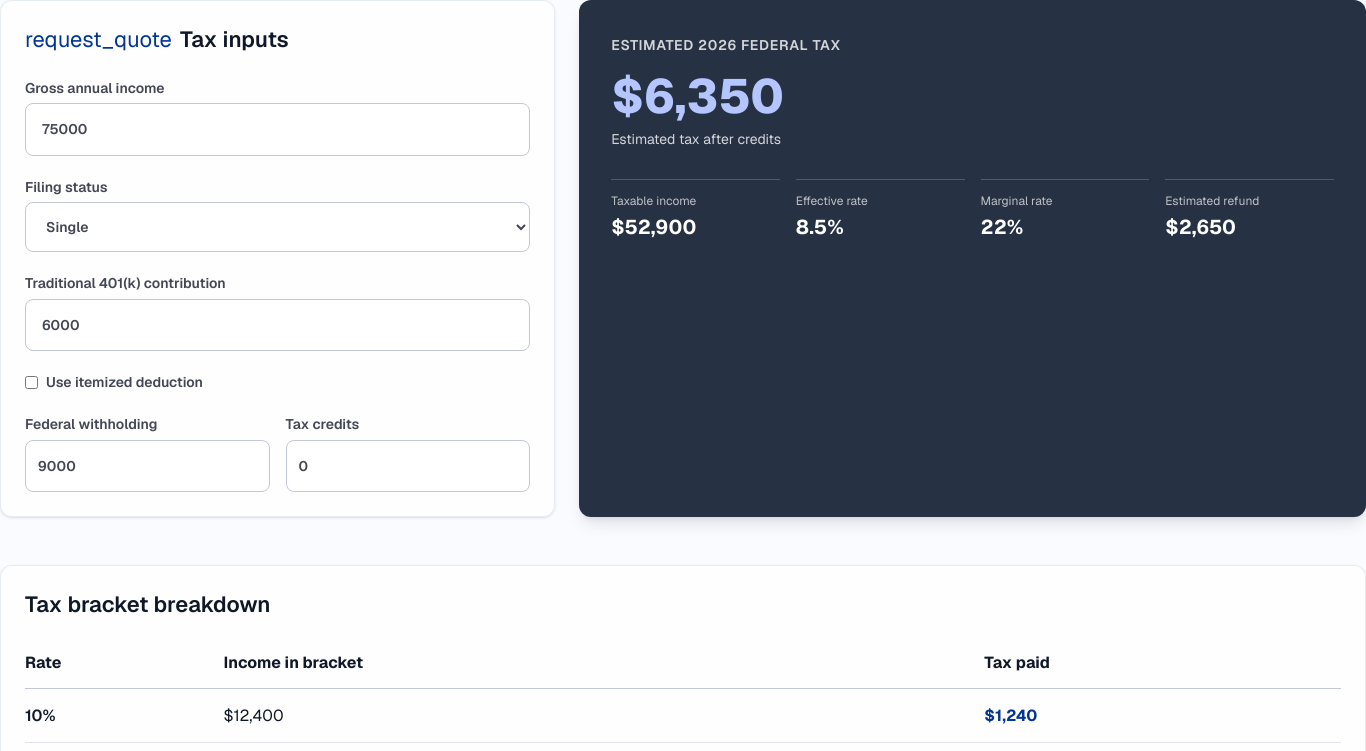
Test: version-sensitive tax workflow › shows the current year and responds to status/deduction thresholds
This screenshot has width=1366, height=751.
Expected: the text "Estimated 2026 federal tax" is shown, [611,36,841,54]
Expected: the text "$6,350" is shown, [611,65,784,127]
Select "Married filing jointly" in the dropdown labelled "Filing status". click: (278, 227)
box: [25,202,530,252]
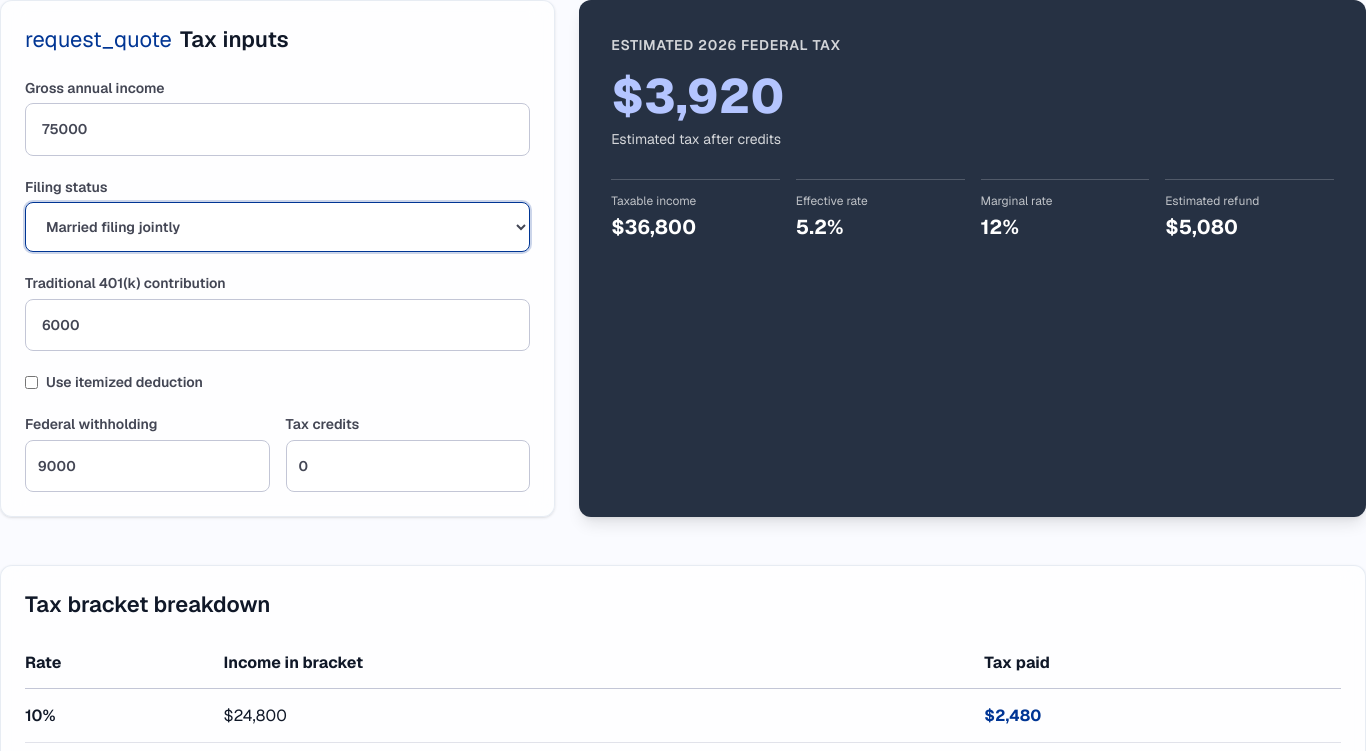
Now the text "$3,920" is shown, box [611,65,784,127]
Click the checkbox labelled "Use itemized deduction". click: (32, 382)
box: [25,376,38,389]
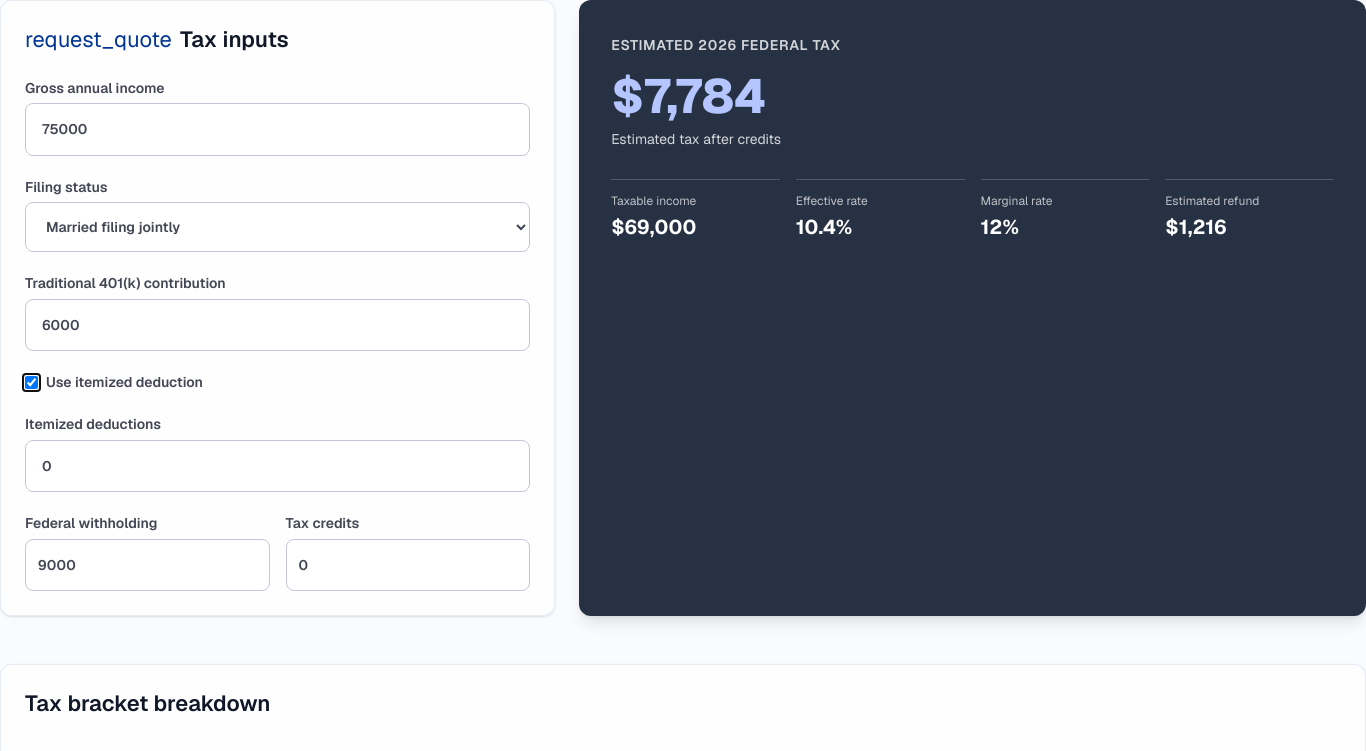
Type "40000" into the number field labelled "Itemized deductions". click: (278, 466)
box: [25,440,530,492]
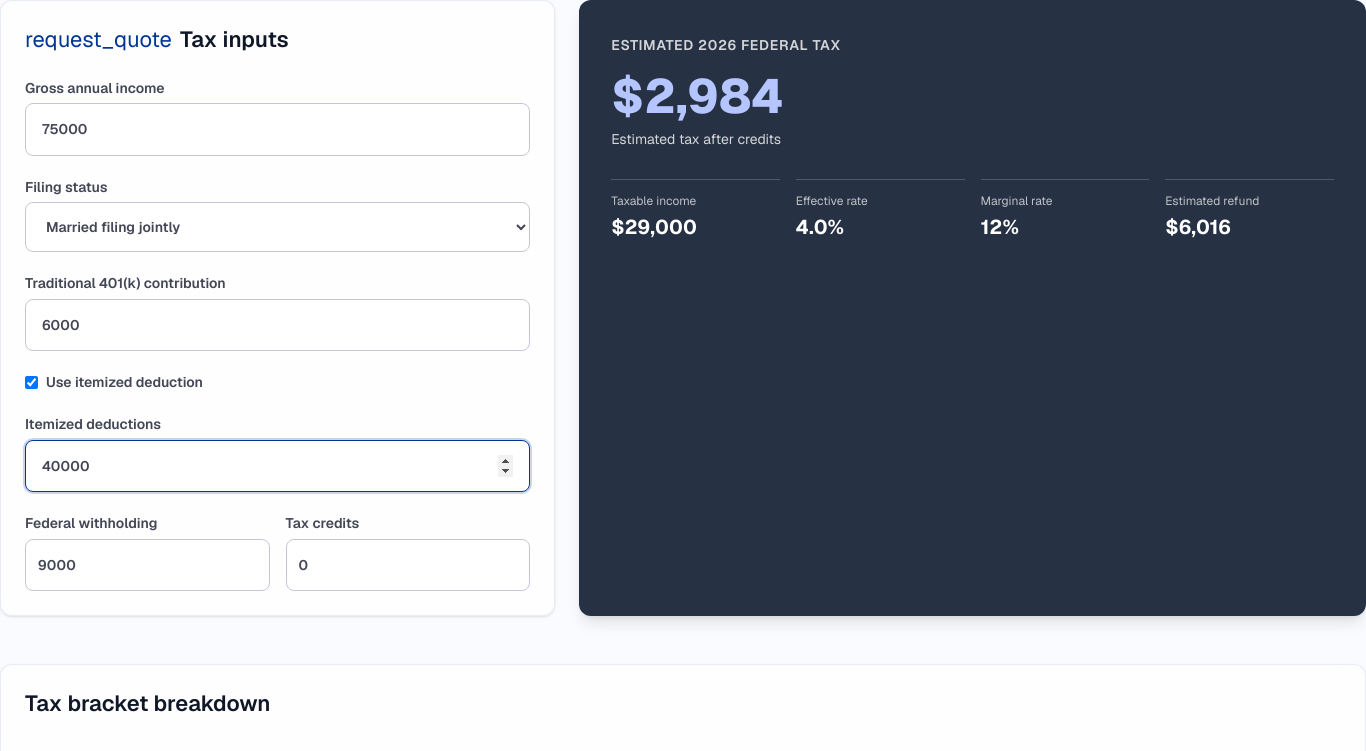
Now the text "$2,984" is shown, box [611,65,784,127]
